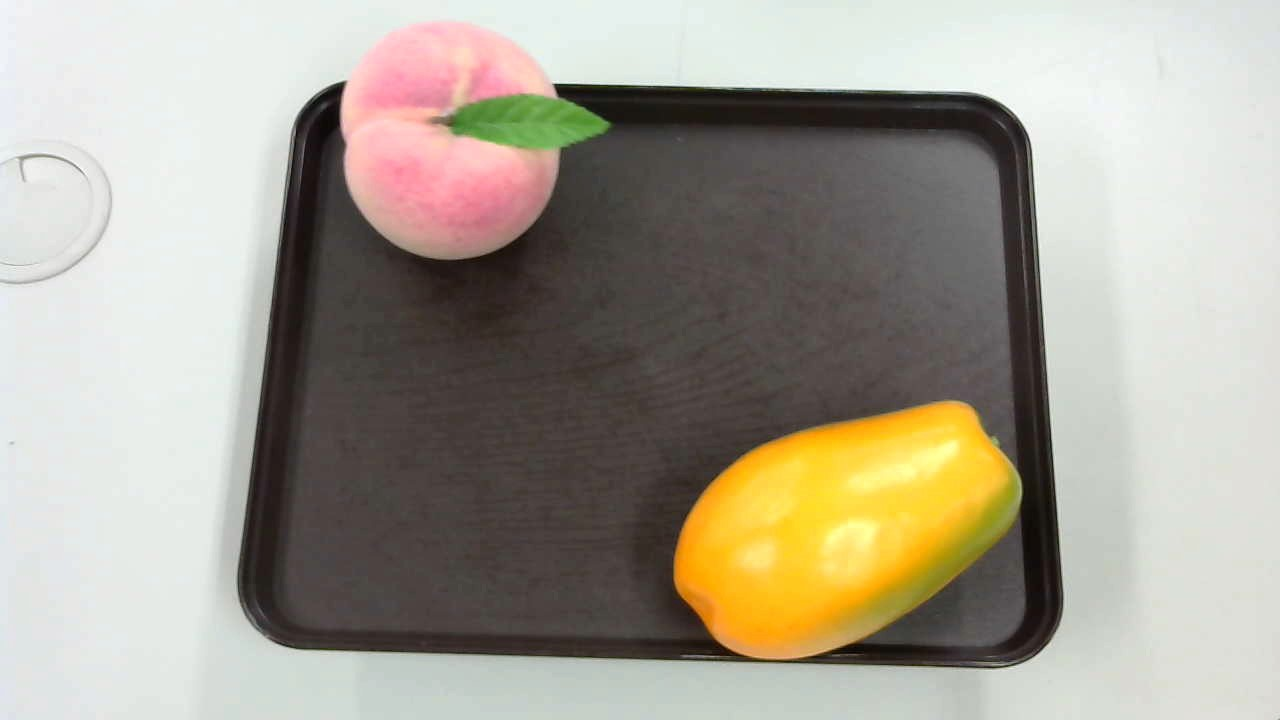papya: (663, 400, 1021, 663)
peach: (337, 18, 607, 263)
